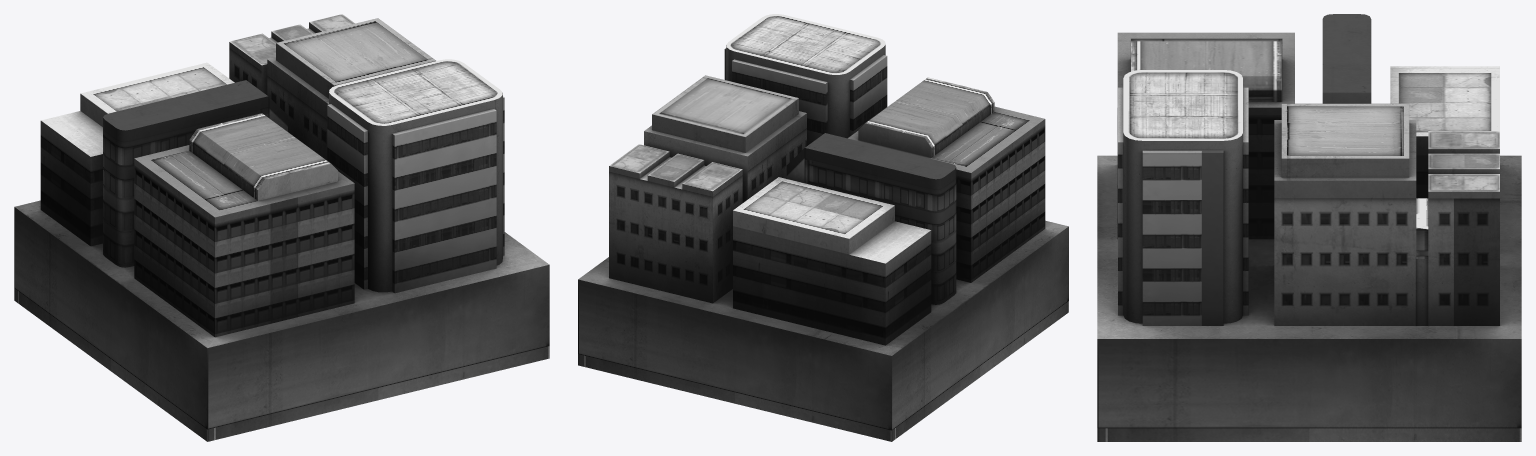
File: Buildings_Small.DAE
3 views of the same model, side by side, from view 1: azimuth 30°, elevation 25°; view 2: azimuth 150°, elevation 25°; view 3: azimuth 270°, elevation 25° (orthographic). The views are drawn at different scales.
Visible parts, largest first — view 1: MainMesh_D128-Pivot; view 2: MainMesh_D128-Pivot; view 3: MainMesh_D128-Pivot.
Boxes of the visible parts, x1,y1,x2,y2 form: MainMesh_D128-Pivot: (14,14,549,441); MainMesh_D128-Pivot: (578,14,1068,441); MainMesh_D128-Pivot: (1097,14,1521,441).
Size of the model in its own units: 65.5 by 64.02 by 47.63.
